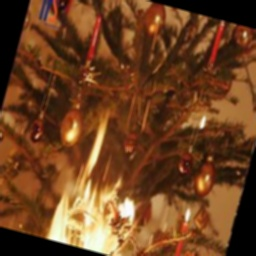fire: (42, 111, 153, 256)
